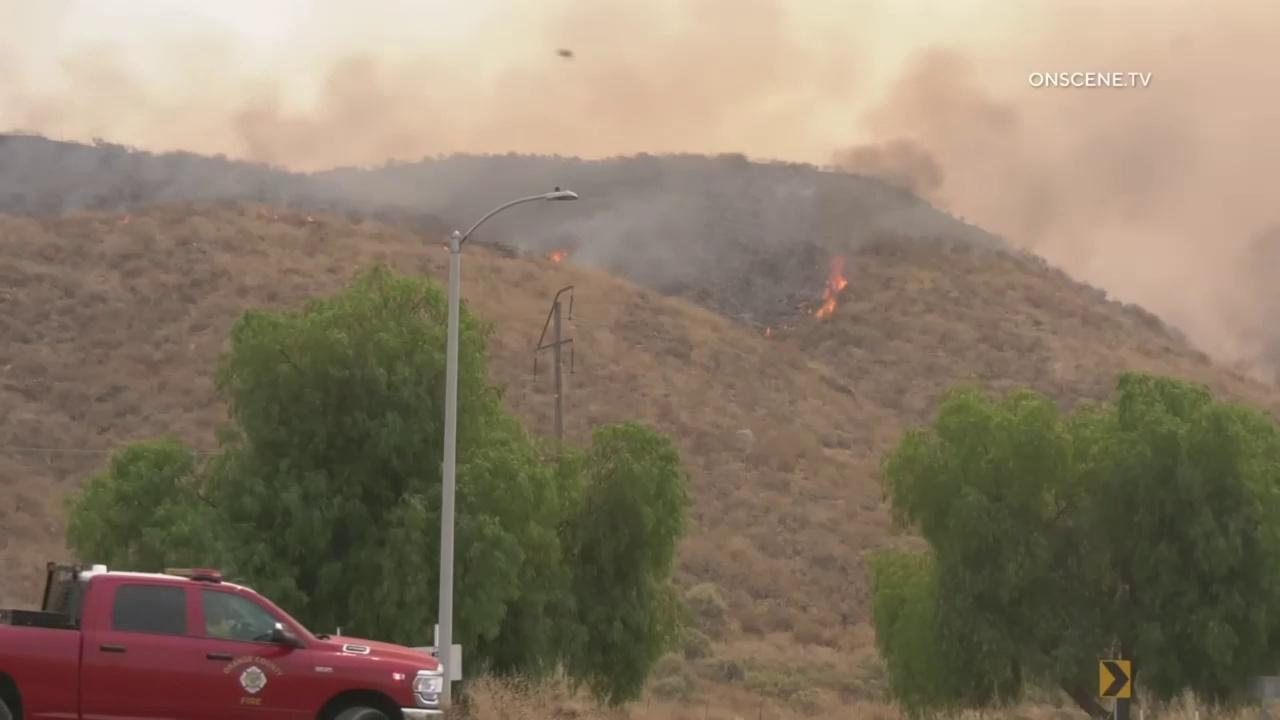fire: (813, 254, 849, 321), (544, 251, 568, 264), (118, 213, 132, 224), (763, 327, 771, 337)
smoke: (0, 0, 1280, 386)
